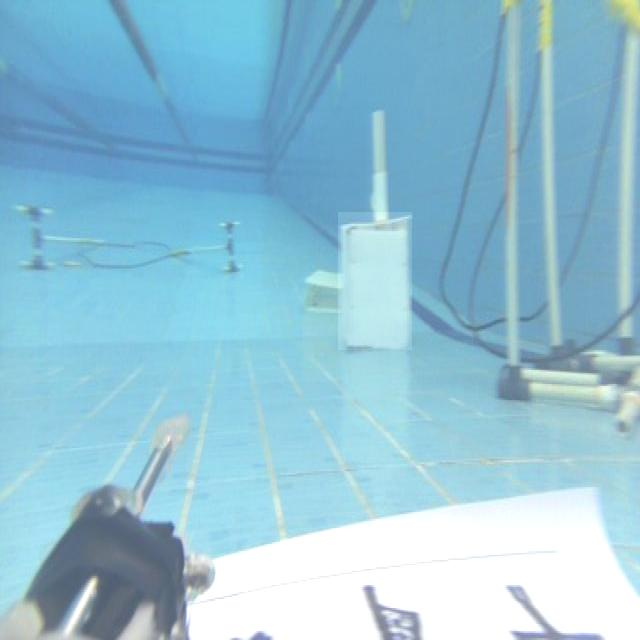Cube: (338, 212, 412, 350)
